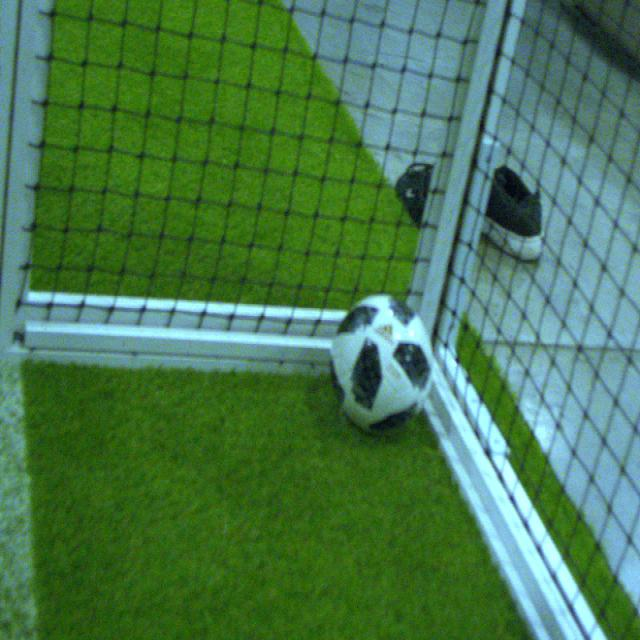ball: (328, 293, 436, 439)
goalpost: (1, 0, 52, 357)
